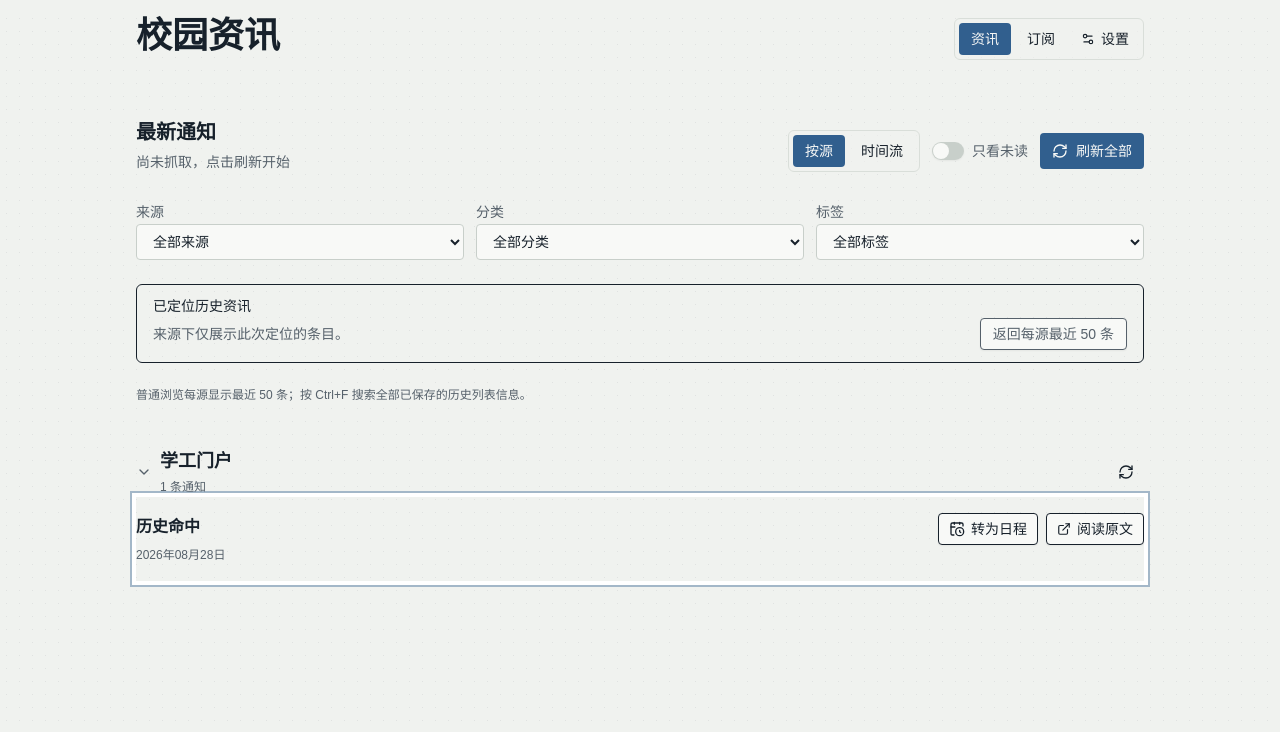
Scenario: campus-feed view (source/tag/unread filters) › loads an archived search hit outside the snapshot under its source and restores normal browsing
This screenshot has width=1280, height=732.
Expected: the heading "历史命中" is shown, [136,518,200,535]
Expected: the text "最近资讯" is not shown
Click the button "返回每源最近 50 条" at (1053, 334), box [980,318,1127,350]
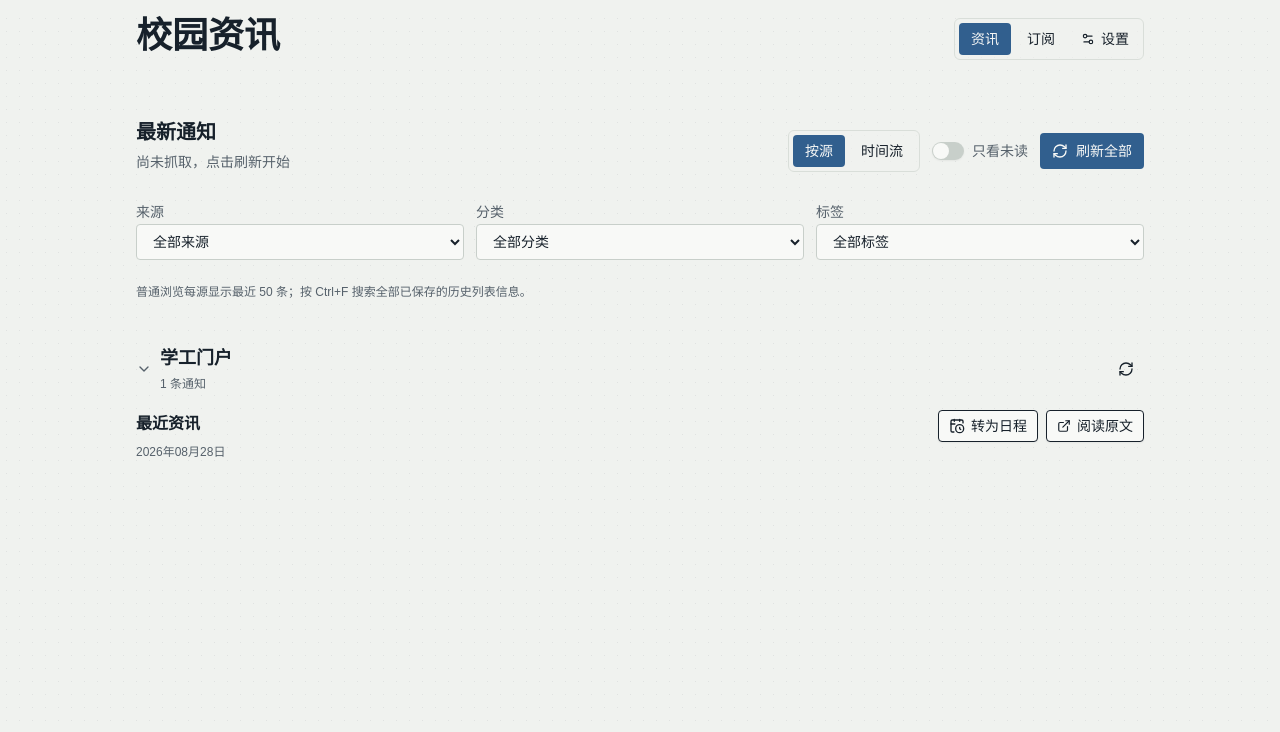
Expected: the heading "最近资讯" is shown, [136,415,200,432]
Expected: the heading "历史命中" is gone
